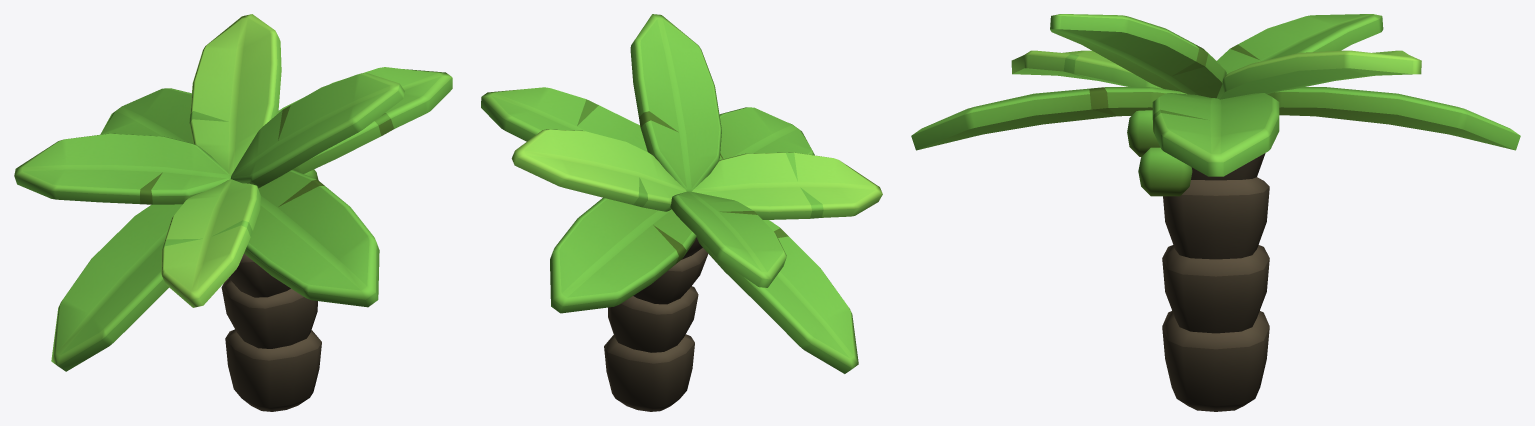
Rendered from deco_palm_1.fbx.
The picture shows the model from 3 angles, left to right: view 1: azimuth 30°, elevation 25°; view 2: azimuth 150°, elevation 25°; view 3: azimuth 270°, elevation 25°; orthographic projection. The views are drawn at different scales.
Parts seen in each view (by area): view 1: deco_palm1_1_LOD0; view 2: deco_palm1_1_LOD0; view 3: deco_palm1_1_LOD0.
Part boxes in pixels (x1,y1,x2,y2): deco_palm1_1_LOD0: (14, 14, 452, 411); deco_palm1_1_LOD0: (481, 14, 882, 411); deco_palm1_1_LOD0: (911, 14, 1520, 411).
Size of what is drawn, in the model's own units: 281 by 238 by 313.
